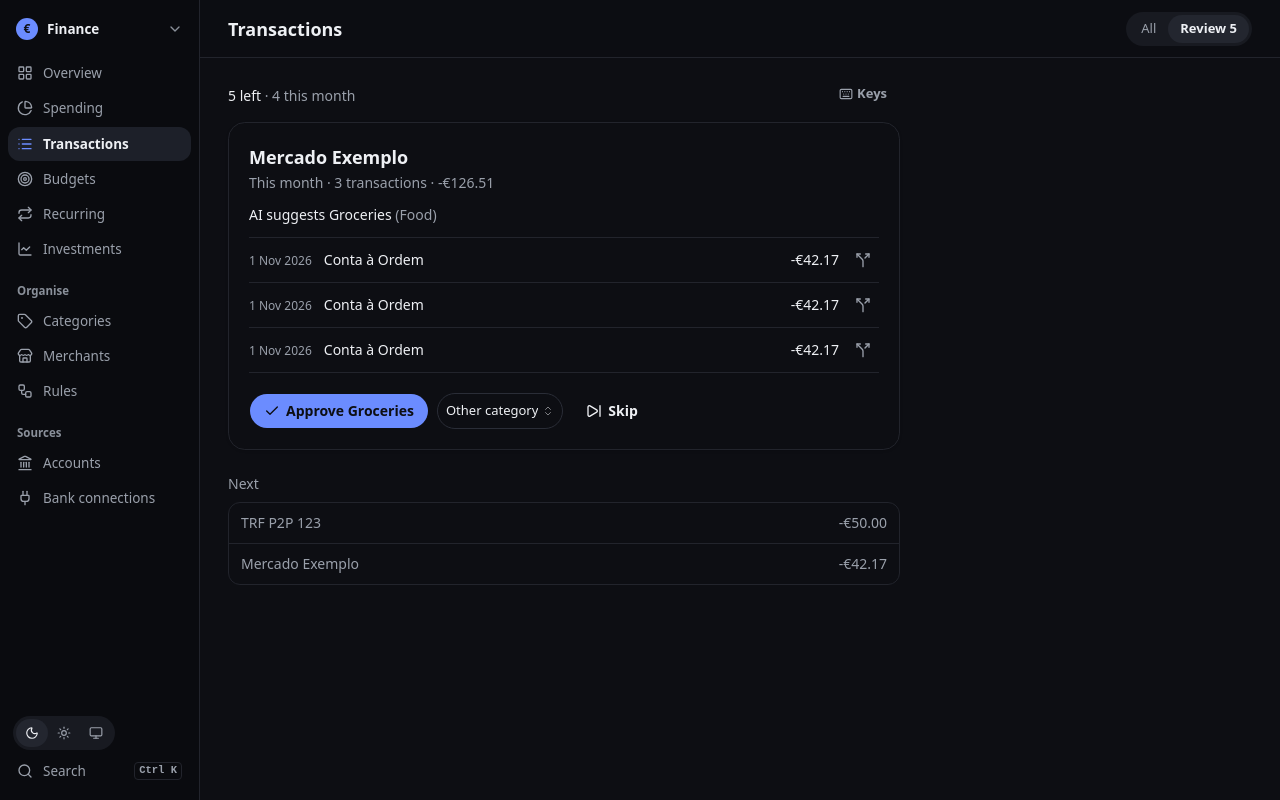
Test: opens the category picker with c, and the choice names the category
This screenshot has width=1280, height=800.
Expected: the element "Mercado Exemplo" is shown, 228,122 -> 900,450
Press c
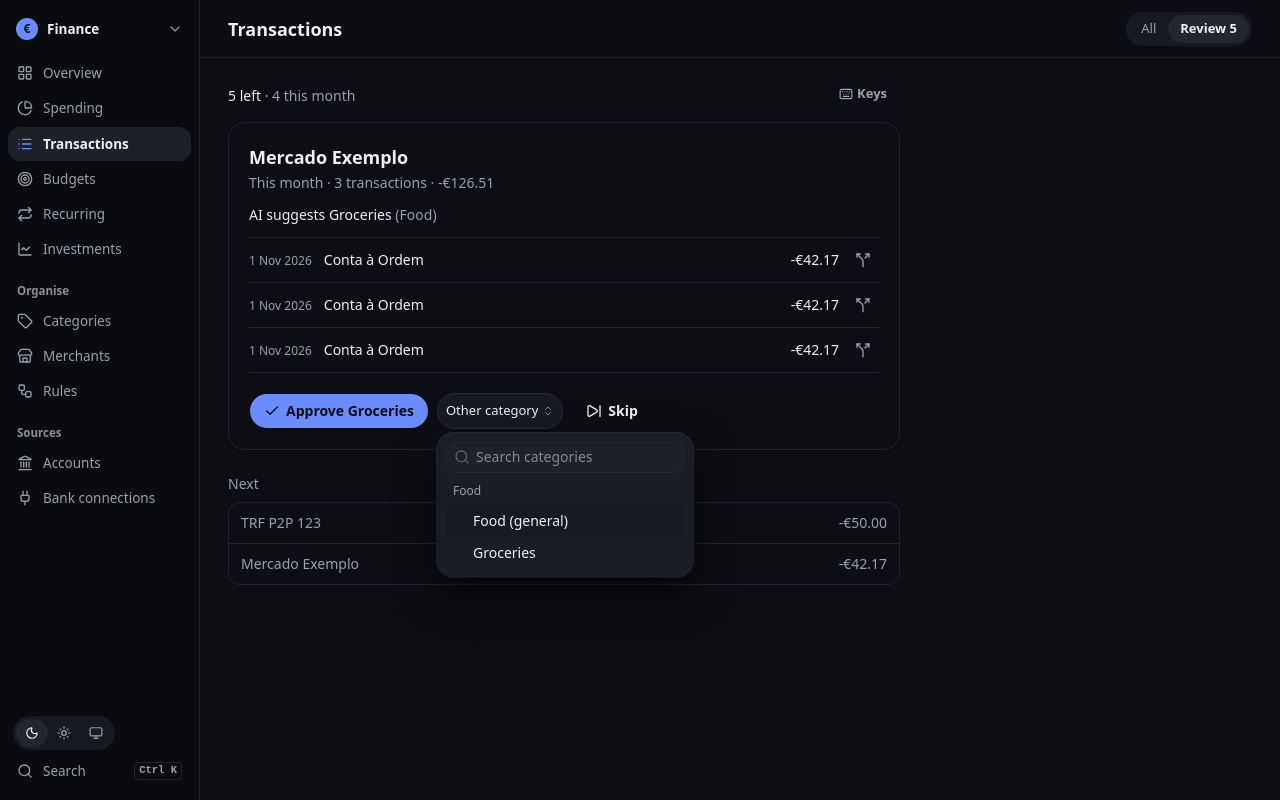
Click the option "Food (general)". click: (565, 521)
box: 445,505 -> 685,537
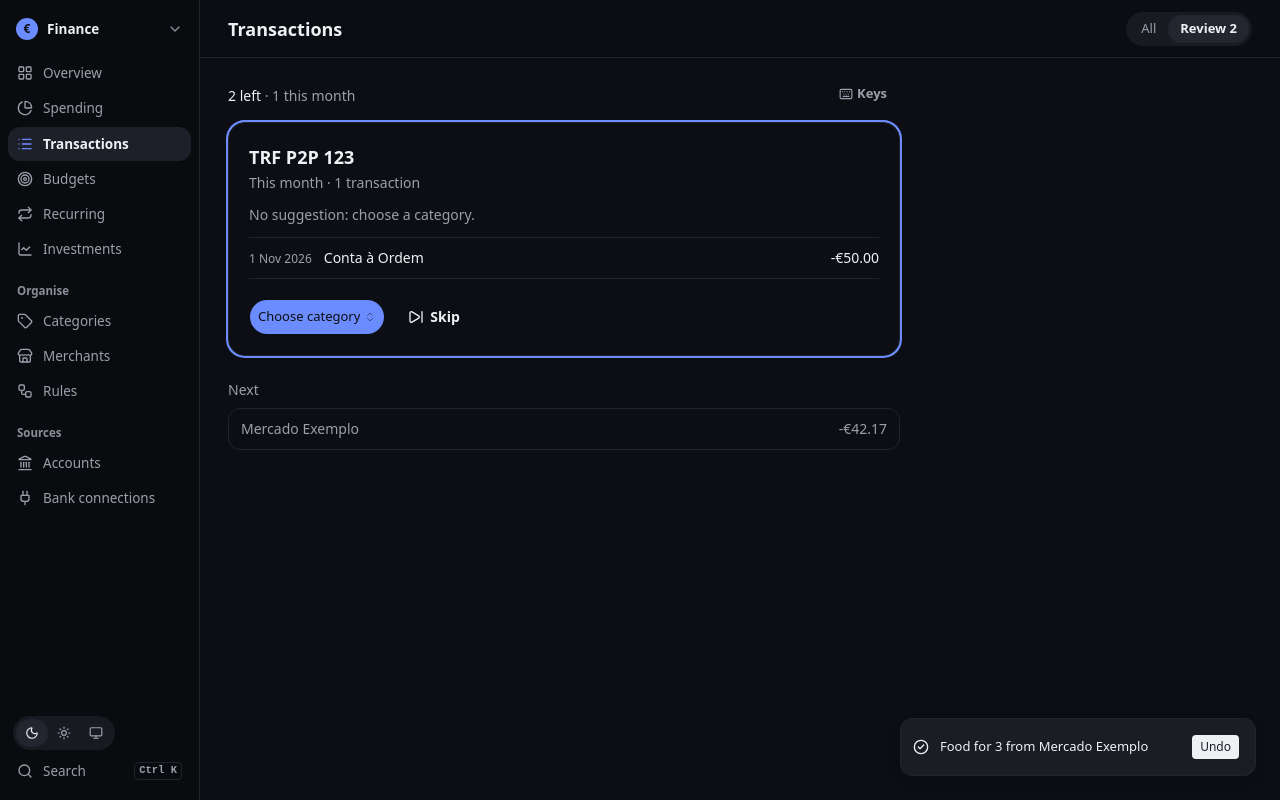
Expected: the text "Food for 3 from Mercado Exemplo" is shown, 940,737 -> 1148,757
